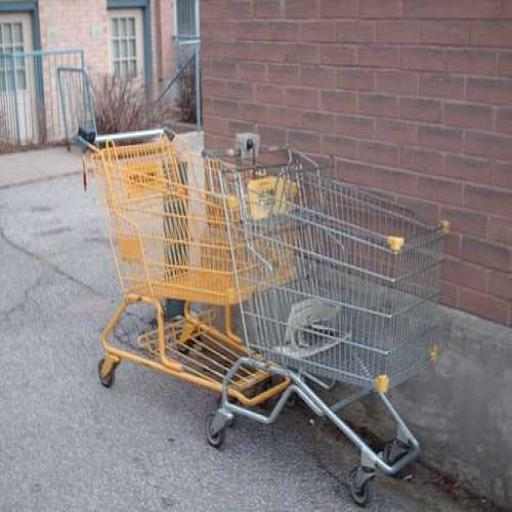shopping_cart: (197, 142, 451, 504), (76, 126, 300, 427)
